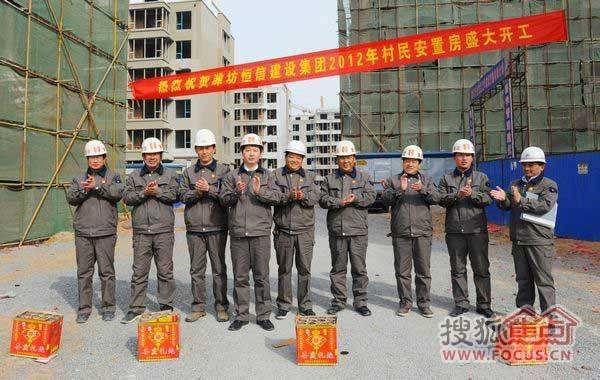white: (449, 136, 477, 172), (517, 144, 546, 178), (237, 132, 264, 168), (81, 138, 108, 171), (139, 134, 164, 168), (333, 138, 357, 173), (399, 142, 424, 175), (193, 128, 216, 163), (282, 139, 307, 170)
